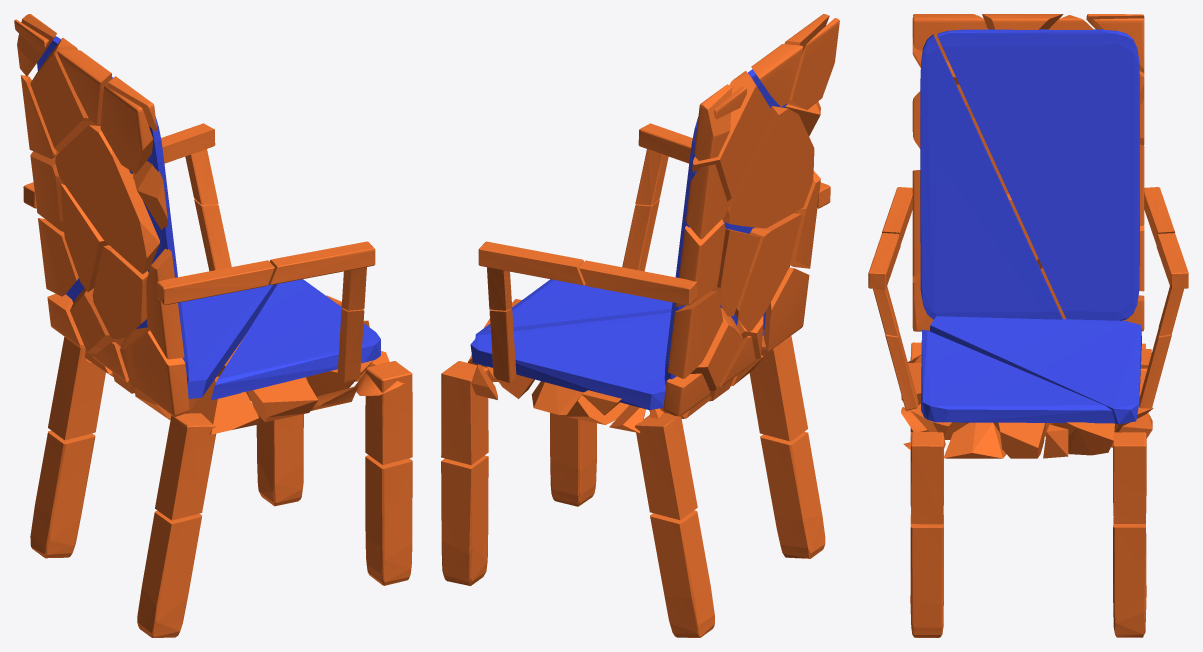
Rendered from ChairFracture_2.fbx.
3 renders of one model, left to right at view 1: azimuth 30°, elevation 25°; view 2: azimuth 150°, elevation 25°; view 3: azimuth 270°, elevation 25°, orthographic. The views are drawn at different scales.
Visible parts, largest first — view 1: Chair.001, Chair.001_cell.018, Chair.024, Chair.023, Chair.022, Chair.009, Chair.020, Chair.021, Chair.019, Chair.025, Chair.001_cell.010, Chair.001_cell.032 (+27 smaller); view 2: Chair.009, Chair.001_cell.018, Chair.023, Chair.024, Chair.025, Chair.001, Chair.019, Chair.020, Chair.018, Chair.022, Chair.001_cell.010, Chair.001_cell.032 (+25 smaller); view 3: Chair.016, Chair.017, Chair.009, Chair.001, Chair.022, Chair.025, Chair.018, Chair.021, Chair.010_cell.029, Chair.010_cell.023, Chair.010_cell.044, Chair.001_cell.035 (+17 smaller).
Part boxes in pixels (left/top/right/bottom): Chair.001: left=211, top=279, right=380, bottom=400; Chair.001_cell.018: left=55, top=125, right=159, bottom=274; Chair.024: left=30, top=430, right=95, bottom=558; Chair.023: left=137, top=510, right=201, bottom=637; Chair.022: left=365, top=455, right=412, bottom=585; Chair.009: left=181, top=284, right=277, bottom=398; Chair.020: left=155, top=413, right=216, bottom=520; Chair.021: left=365, top=361, right=412, bottom=464; Chair.019: left=48, top=337, right=105, bottom=440; Chair.025: left=256, top=414, right=303, bottom=506; Chair.001_cell.010: left=92, top=245, right=148, bottom=338; Chair.001_cell.032: left=30, top=38, right=100, bottom=152; Chair.009: left=470, top=312, right=764, bottom=410; Chair.001_cell.018: left=722, top=106, right=814, bottom=228; Chair.023: left=760, top=431, right=825, bottom=558; Chair.024: left=650, top=510, right=714, bottom=637; Chair.025: left=441, top=455, right=488, bottom=585; Chair.001: left=475, top=279, right=672, bottom=338; Chair.019: left=635, top=413, right=697, bottom=519; Chair.020: left=749, top=335, right=807, bottom=441; Chair.018: left=441, top=361, right=488, bottom=465; Chair.022: left=550, top=412, right=596, bottom=506; Chair.001_cell.010: left=735, top=213, right=801, bottom=332; Chair.001_cell.032: left=692, top=71, right=774, bottom=201; Chair.016: left=937, top=29, right=1139, bottom=320; Chair.017: left=920, top=34, right=1062, bottom=319; Chair.009: left=930, top=316, right=1141, bottom=424; Chair.001: left=921, top=329, right=1115, bottom=423; Chair.022: left=910, top=515, right=943, bottom=637; Chair.025: left=1113, top=517, right=1146, bottom=637; Chair.018: left=1113, top=432, right=1146, bottom=523; Chair.021: left=911, top=432, right=943, bottom=524; Chair.010_cell.029: left=943, top=422, right=1006, bottom=458; Chair.010_cell.023: left=998, top=422, right=1046, bottom=458; Chair.010_cell.044: left=1051, top=422, right=1114, bottom=455; Chair.001_cell.035: left=912, top=15, right=986, bottom=61.
Bounding box in the file's own units: 89.92 × 165 × 94.97.
